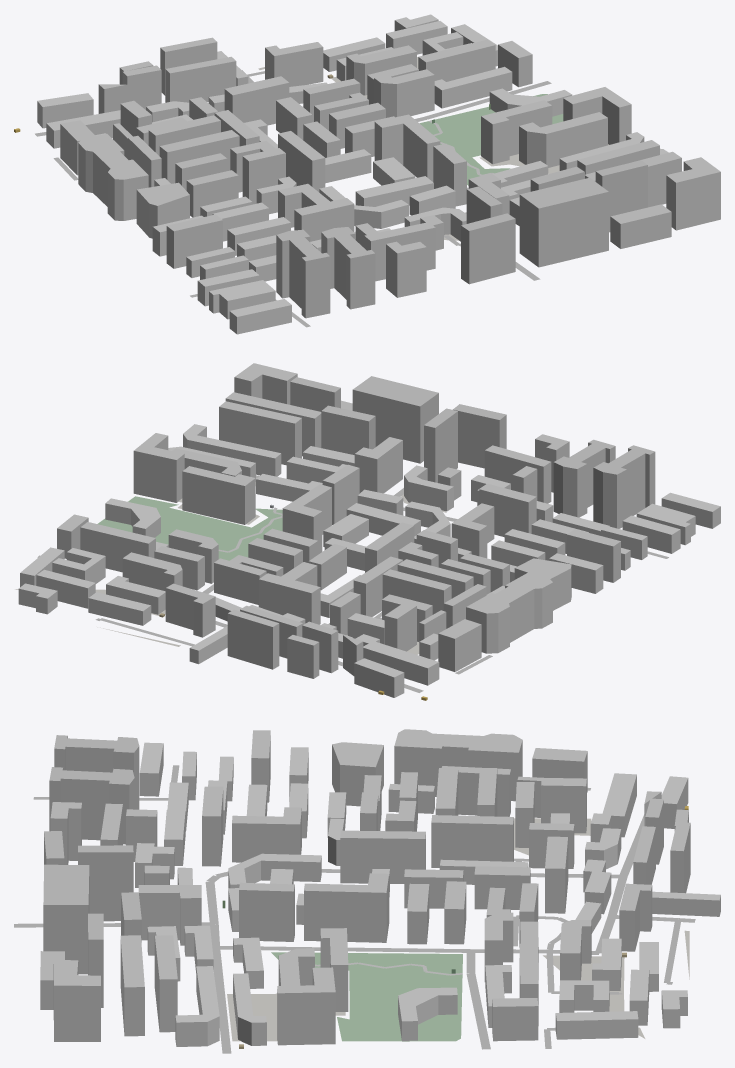
3 views of the same model, one above another, from view 1: azimuth 30°, elevation 25°; view 2: azimuth 150°, elevation 25°; view 3: azimuth 270°, elevation 25° (orthographic). The views are drawn at different scales.
Size of the model in its own units: 536 by 60.9 by 554.
